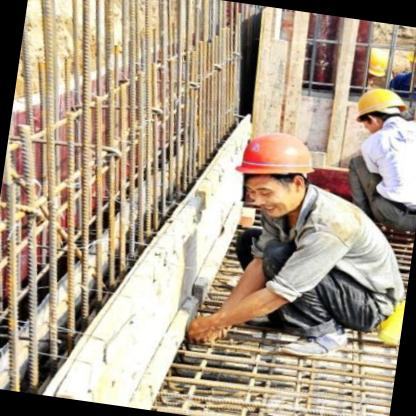helmet: (235, 124, 332, 222), (348, 83, 410, 144), (356, 44, 401, 90), (405, 37, 416, 82)
